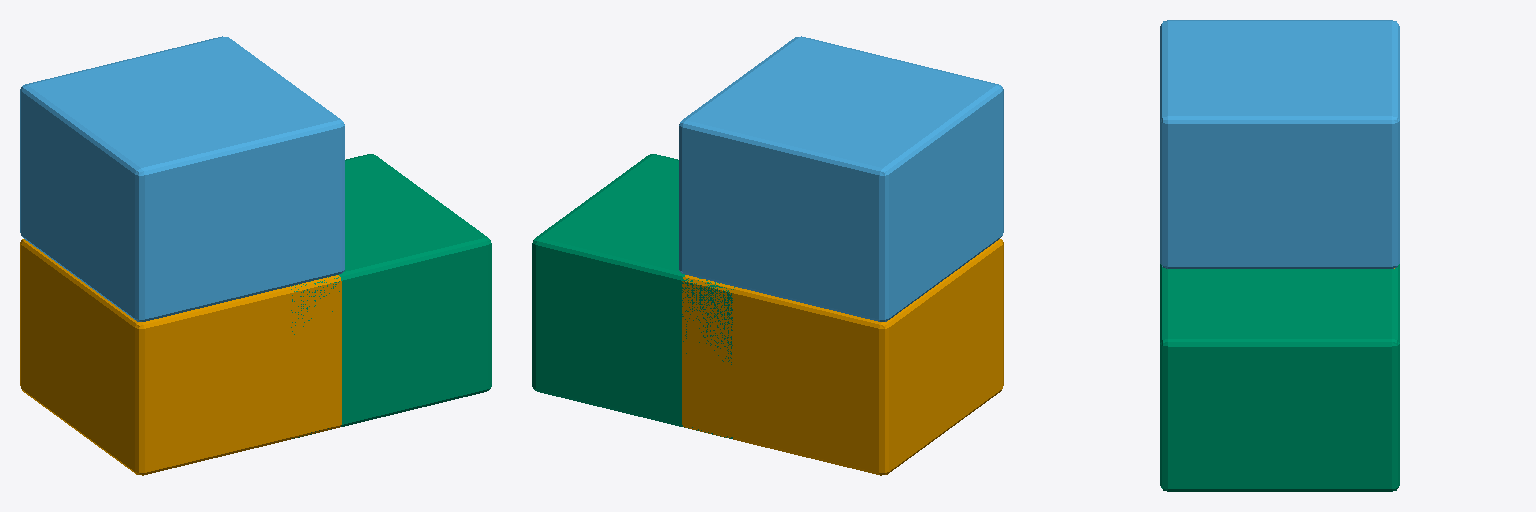
URDF robot description (gray_cube):
<?xml version='1.0' encoding='UTF-8'?>
<robot name="gray_cube">
  <link name="link1">
    <inertial>
      <origin xyz="0.0 0.0 0.0" rpy="0.0 -0.0 0.0"/>
      <mass value="1.0"/>
      <inertia ixx="1.0" ixy="0.0" ixz="0.0" iyy="1.0" iyz="0.0" izz="1.0"/>
    </inertial>
    <visual>
      <geometry>
        <mesh filename="gray_cube.obj" scale="1.  1.  0.7"/>
      </geometry>
      <origin xyz="0.0 0.0 0.0" rpy="0.0 -0.0 0.0"/>
    </visual>
  </link>
  <link name="link2">
    <inertial>
      <origin xyz="0.0 0.0 0.0" rpy="0.0 -0.0 0.0"/>
      <mass value="1.0"/>
      <inertia ixx="1.0" ixy="0.0" ixz="0.0" iyy="1.0" iyz="0.0" izz="1.0"/>
    </inertial>
    <visual>
      <geometry>
        <mesh filename="gray_cube.obj" scale="1.  1.  0.7"/>
      </geometry>
      <origin xyz="0.0 0.0 0.0" rpy="0.0 -0.0 0.0"/>
    </visual>
  </link>
  <link name="link3">
    <inertial>
      <origin xyz="0.0 0.0 0.0" rpy="0.0 -0.0 0.0"/>
      <mass value="1.0"/>
      <inertia ixx="1.0" ixy="0.0" ixz="0.0" iyy="1.0" iyz="0.0" izz="1.0"/>
    </inertial>
    <visual>
      <geometry>
        <mesh filename="gray_cube.obj" scale="1.  1.  0.7"/>
      </geometry>
      <origin xyz="0.0 0.0 0.0" rpy="0.0 -0.0 0.0"/>
    </visual>
  </link>
  <joint name="joint1" type="fixed">
    <parent link="link1"/>
    <child link="link2"/>
    <axis xyz="1. 0. 0."/>
    <origin xyz="0.0 0.0 1.4" rpy="0.0 0.0 0.0"/>
  </joint>
  <joint name="joint2" type="fixed">
    <parent link="link1"/>
    <child link="link3"/>
    <axis xyz="1. 0. 0."/>
    <origin xyz="1.4 0.0 0.0" rpy="0.0 0.0 0.0"/>
  </joint>
</robot>

--- What the picture shows (computed from the rendered views, not written in the file) ---
The picture shows the robot from 3 angles, left to right: view 1: azimuth 30°, elevation 25°; view 2: azimuth 150°, elevation 25°; view 3: azimuth 270°, elevation 25°; orthographic projection.
Model gray_cube with 3 links and 2 joints (2 fixed), rooted at link1, posed every joint at zero.
Links seen in each view (by area): view 1: link2, link1, link3; view 2: link2, link1, link3; view 3: link2, link3.
Link boxes in pixels (x1,y1,x2,y2): link2: (20,36,344,321); link1: (20,239,341,475); link3: (291,154,491,438); link2: (679,36,1003,321); link1: (682,239,1003,475); link3: (532,154,734,438); link2: (1160,20,1399,268); link3: (1160,264,1399,491).
Bounding box of the posed robot: 3.4 × 2 × 2.8 m (x, y, z).
Meshes: 1 distinct files referenced, 3 mesh visuals loaded (1 OBJ).
